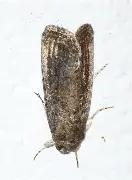army worm adult: (24, 17, 115, 174)
